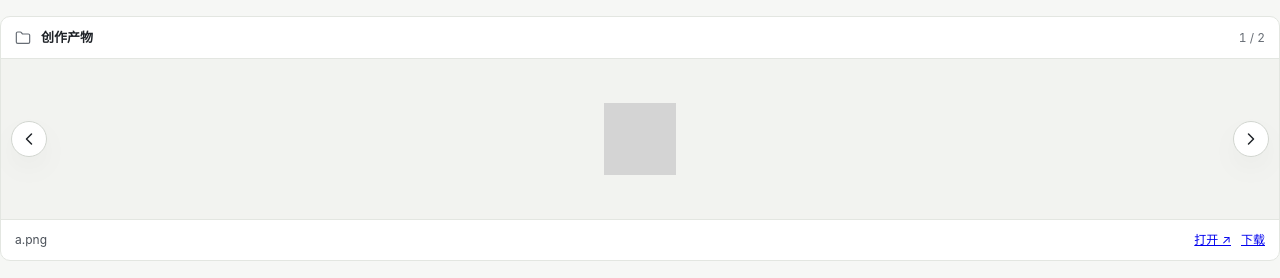
Test: ArtifactGallery › 多个产物：箭头循环翻页，页脚跟着显示当前文件名
The width and height of the screenshot is (1280, 278).
Expected: the text "1 / 2" is shown, 1239,28 -> 1265,48
Click the button named "下一个产物" at (1251,139), box 1233,121 -> 1269,157
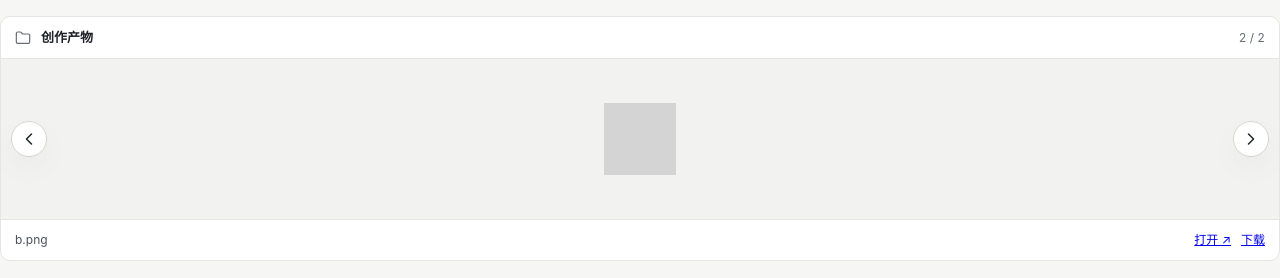
Expected: the text "2 / 2" is shown, 1239,28 -> 1265,48
Expected: the text with class "artifact-name" reads "b.png", 15,232 -> 48,247
Click the button named "下一个产物" at (1251,139), box 1233,121 -> 1269,157
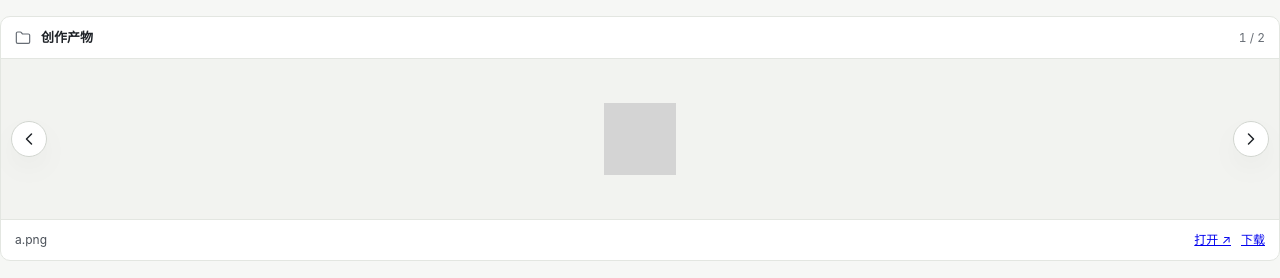
Expected: the text "1 / 2" is shown, 1239,28 -> 1265,48
Click the button named "上一个产物" at (29,139), box 11,121 -> 47,157
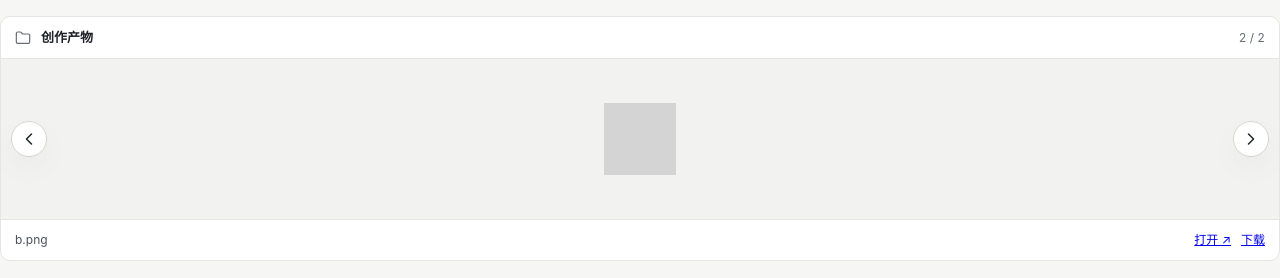
Expected: the text "2 / 2" is shown, 1239,28 -> 1265,48
